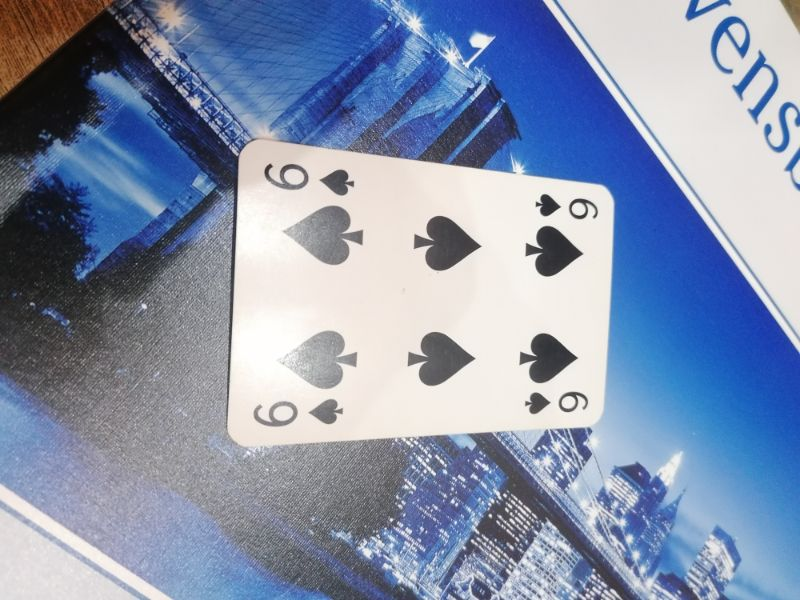6s: (251, 155, 359, 199), (246, 398, 349, 431), (531, 190, 602, 222), (522, 390, 593, 416)
